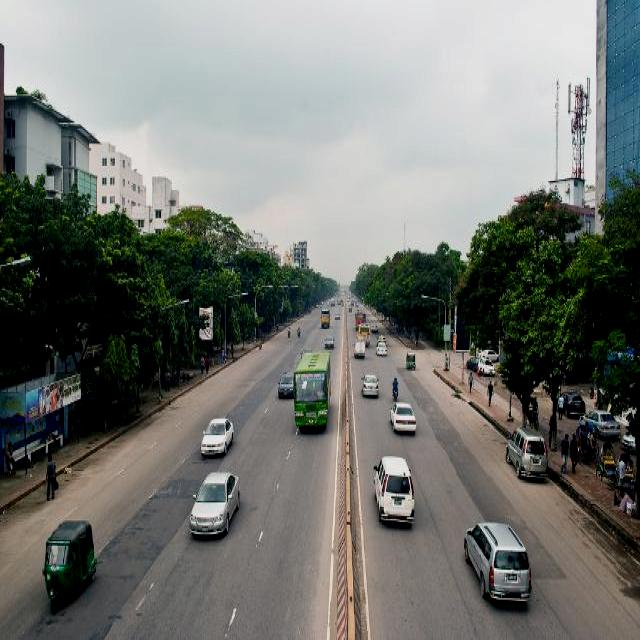black: (277, 372, 293, 399)
silver: (463, 523, 531, 606), (188, 470, 240, 534), (503, 427, 549, 480), (360, 375, 381, 397)
white: (373, 458, 417, 522), (200, 416, 233, 458), (390, 402, 417, 436)
